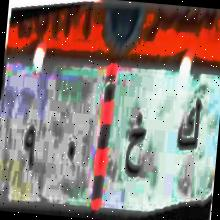0: (60, 130, 85, 180)
9: (19, 112, 44, 181)
kaaf: (172, 89, 204, 170)
khaa: (117, 111, 154, 194)
